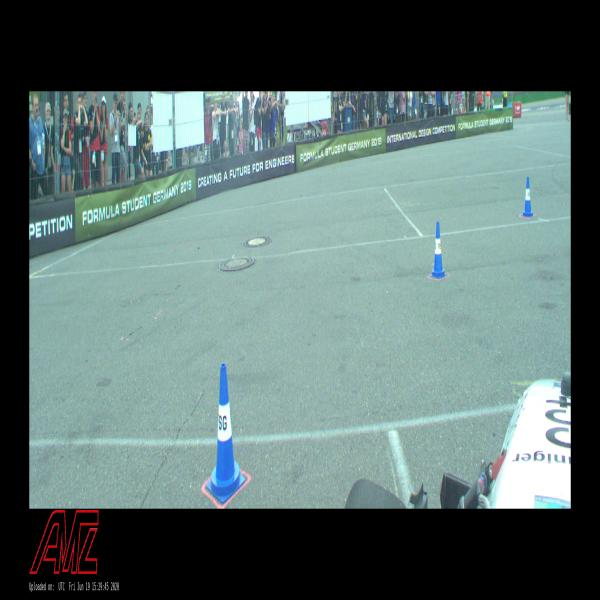blue_cone: (206, 363, 245, 502), (430, 222, 446, 278), (522, 177, 534, 217)
